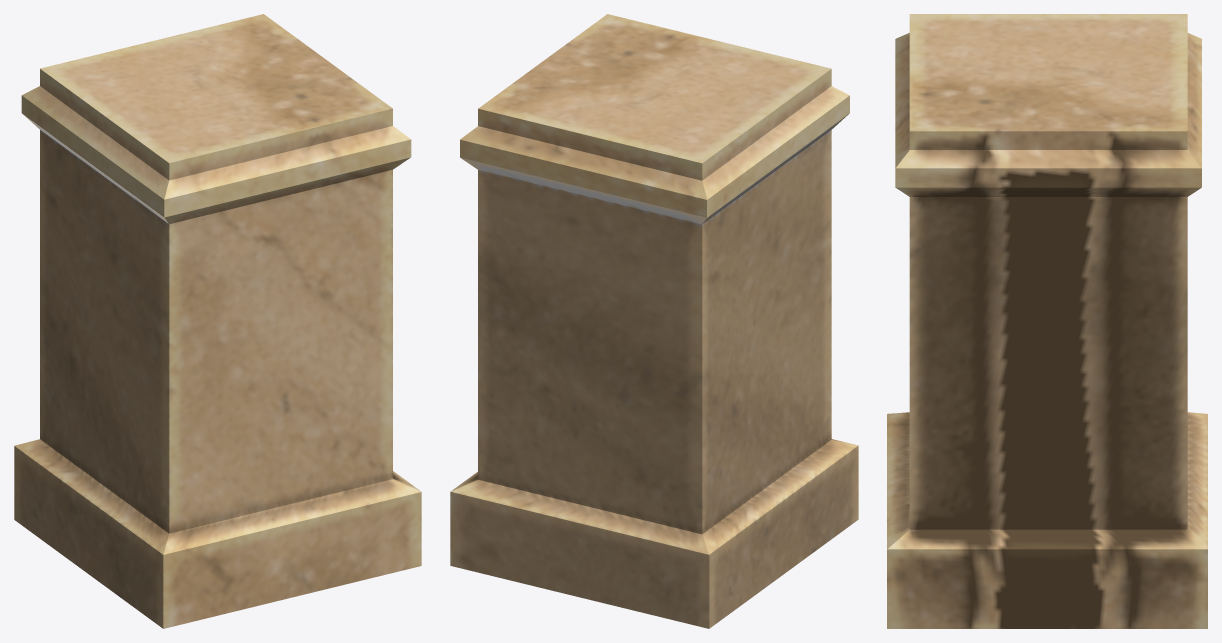
The model's file is SM_Tus_PlotMuret_LP2.fbx.
3 views of the same model, side by side, from view 1: azimuth 30°, elevation 25°; view 2: azimuth 150°, elevation 25°; view 3: azimuth 270°, elevation 25° (orthographic). The views are drawn at different scales.
Visible parts, largest first — view 1: SM_Tus_PlotMuret_LP2; view 2: SM_Tus_PlotMuret_LP2; view 3: SM_Tus_PlotMuret_LP2.
Boxes of the visible parts, bbox=[...] form: SM_Tus_PlotMuret_LP2: bbox=[14, 14, 421, 628]; SM_Tus_PlotMuret_LP2: bbox=[450, 14, 858, 628]; SM_Tus_PlotMuret_LP2: bbox=[887, 14, 1207, 628].
Bounding box in the file's own units: 0.2978 × 0.5 × 0.2978.
1 material, 1 textured.
